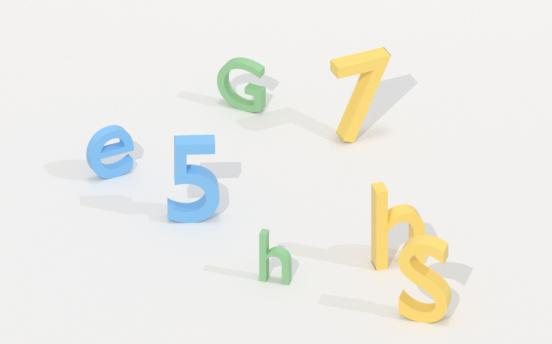5: (167, 131, 224, 226)
7: (321, 48, 395, 148)
G-hoa: (212, 54, 273, 116)
e: (84, 124, 140, 181)
h: (366, 184, 437, 271), (254, 224, 297, 288)
s: (390, 236, 461, 325)
